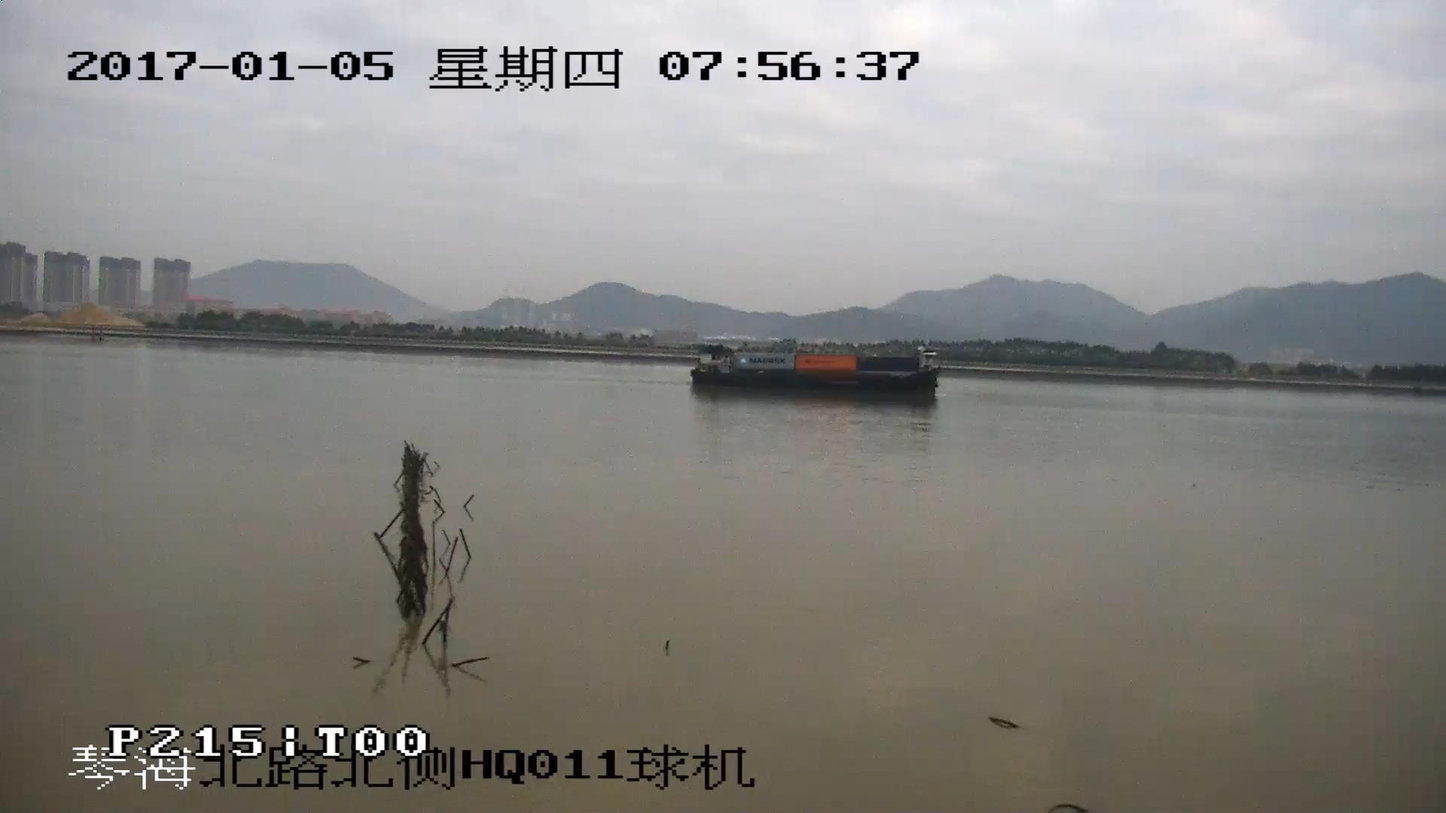container ship: (689, 349, 938, 397)
